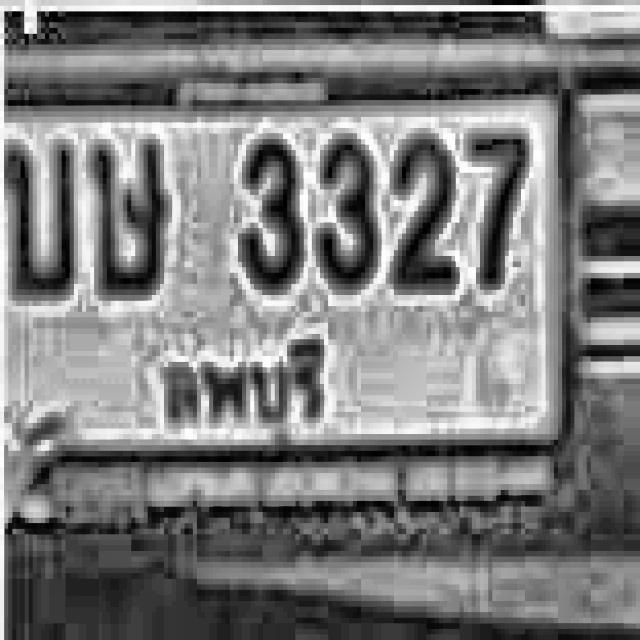license-plate: (0, 74, 584, 527)
